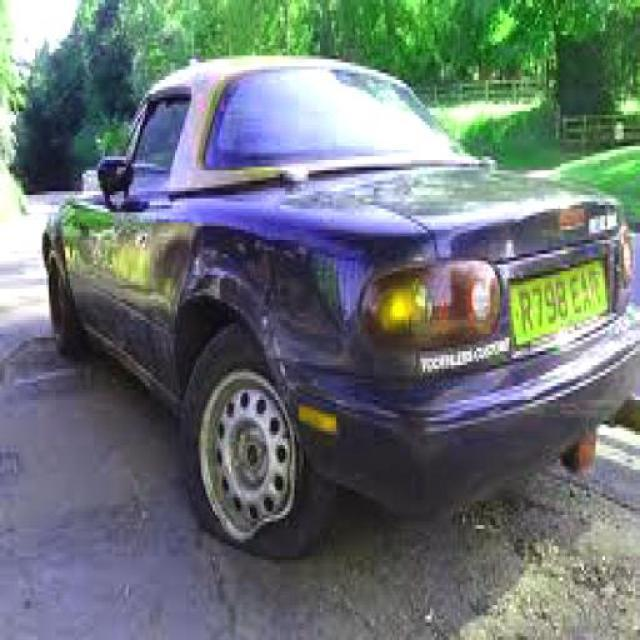car damage: (260, 245, 370, 420)
